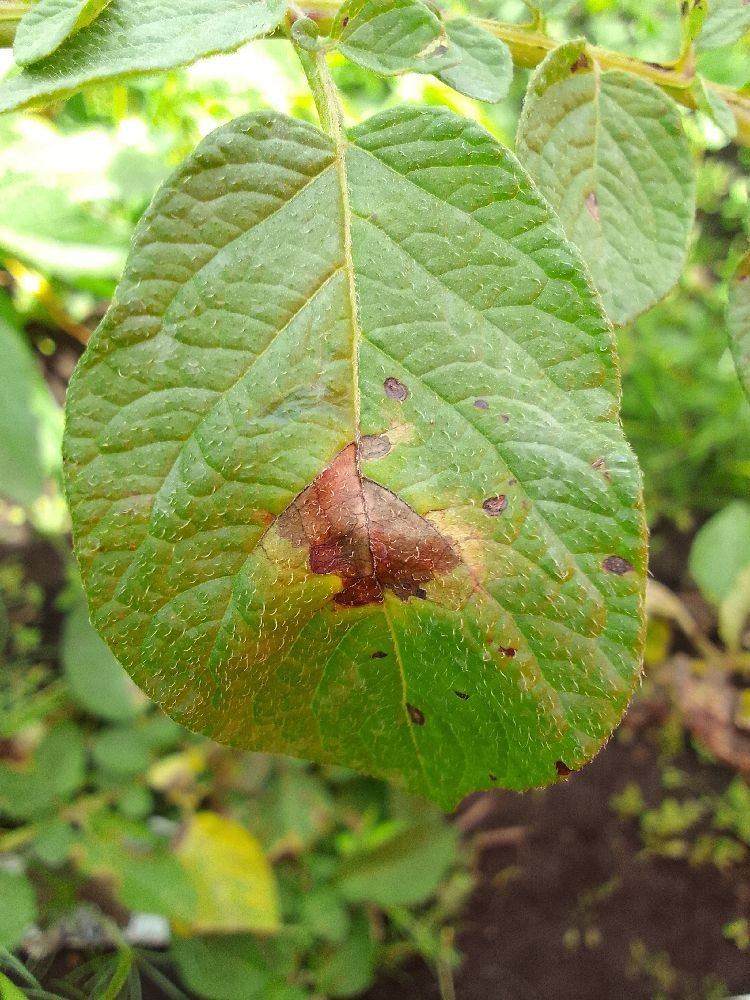late_blight: (352, 493, 749, 999), (0, 809, 312, 1000), (0, 468, 145, 795), (13, 290, 120, 417)
